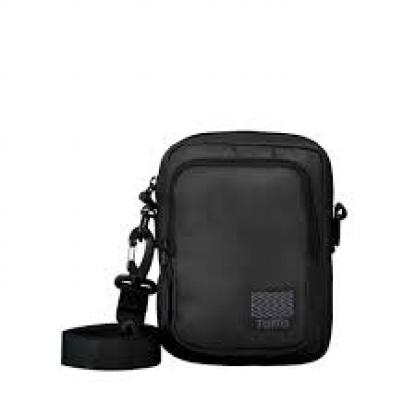morral: (44, 103, 374, 394)
